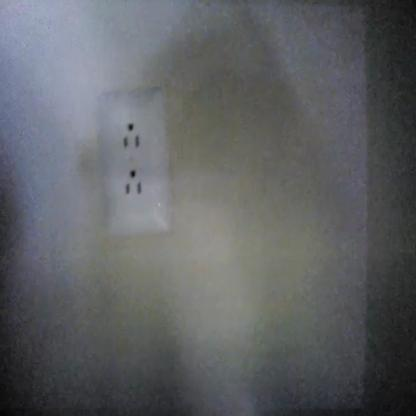OUTLET: (100, 90, 167, 235)
